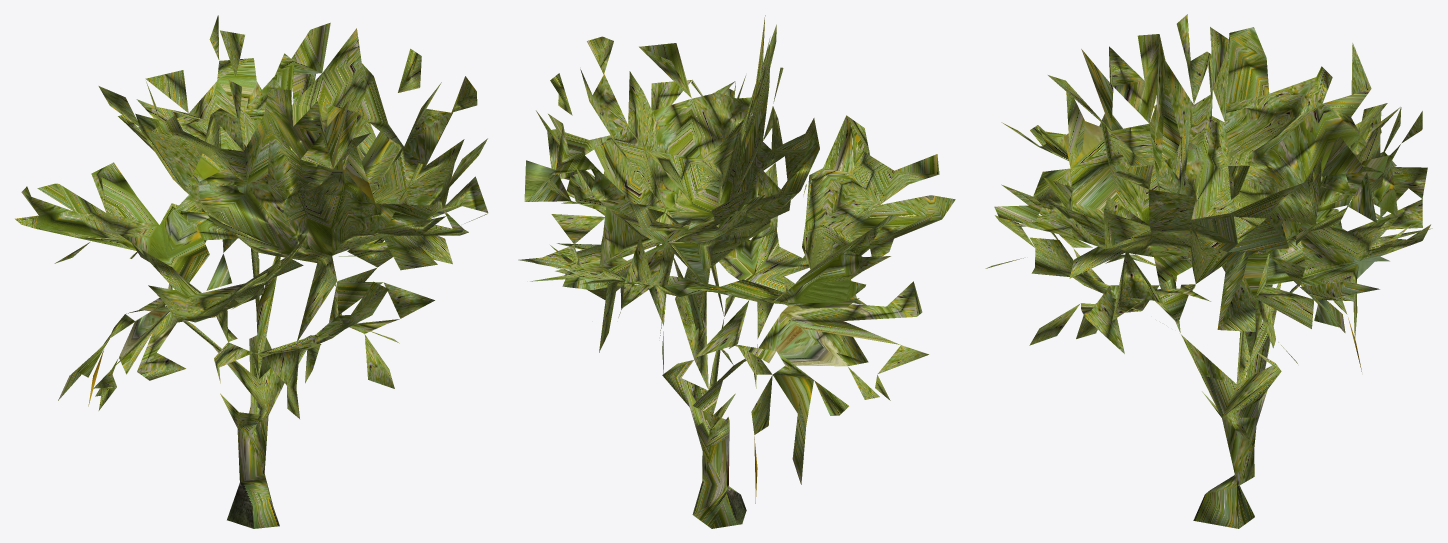
Rendered from fan.glb.
3 renders of one model, left to right at view 1: azimuth 30°, elevation 25°; view 2: azimuth 150°, elevation 25°; view 3: azimuth 270°, elevation 25°, orthographic. The views are drawn at different scales.
Visible parts, largest first — view 1: mesh_node; view 2: mesh_node; view 3: mesh_node.
Boxes of the visible parts, x1=… form: mesh_node: x1=15, y1=15, x2=488, y2=528; mesh_node: x1=518, y1=15, x2=955, y2=528; mesh_node: x1=985, y1=14, x2=1432, y2=528.
Bounding box in the file's own units: 1.61 × 1.85 × 1.56.
1 material, 1 textured.
